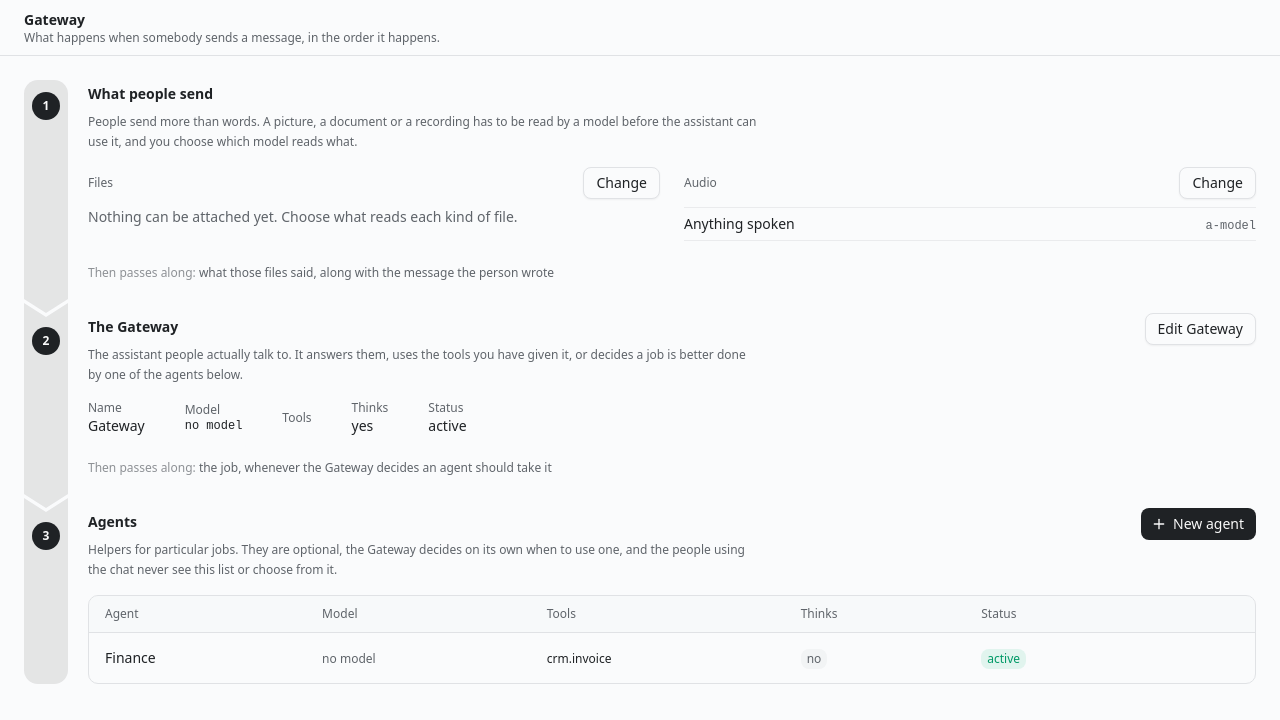
Test: what the gateway dialogs save › says what changed, rather than closing and leaving you to look
Check: the text "Finance" is shown, box top-left (105, 648), bottom-right (156, 667)
Click the button "Change" in the row of "Audio" at (1218, 183), box top-left (1180, 167), bottom-right (1256, 199)
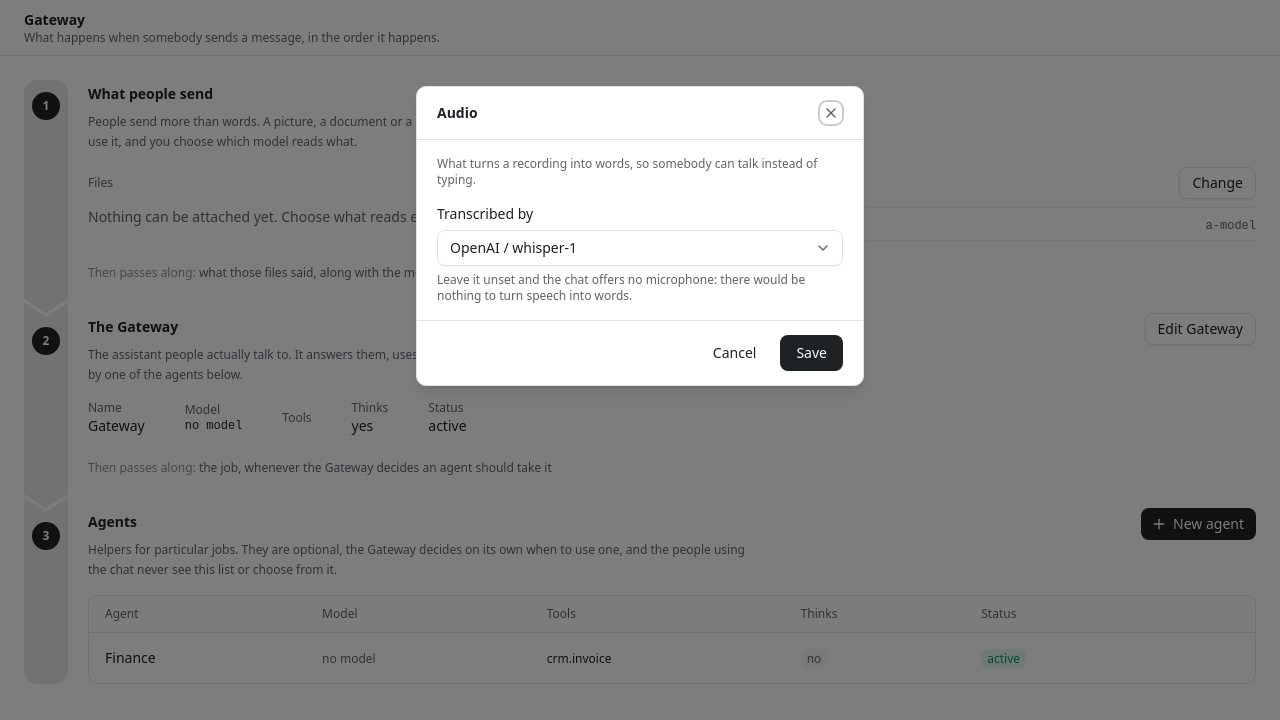
Click the button "Save" at (812, 353), box top-left (780, 335), bottom-right (843, 371)
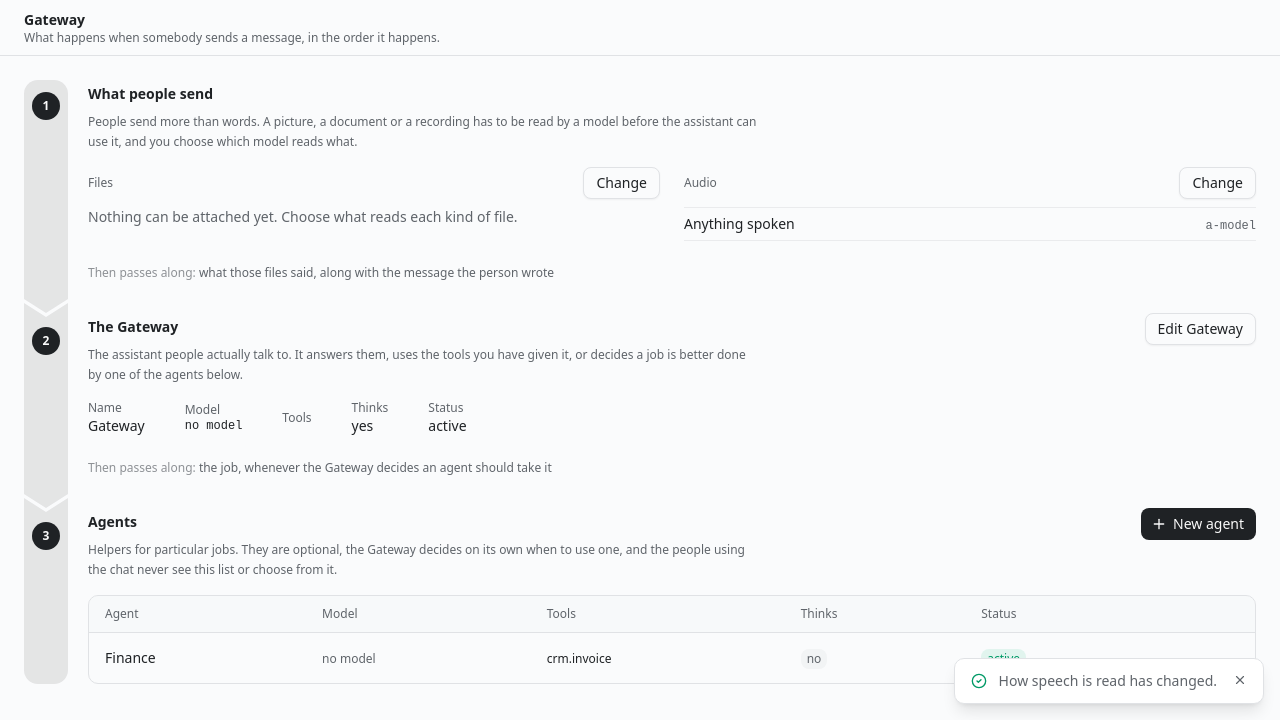
Check: the text "How speech is read has changed." is shown, box top-left (999, 671), bottom-right (1217, 691)
